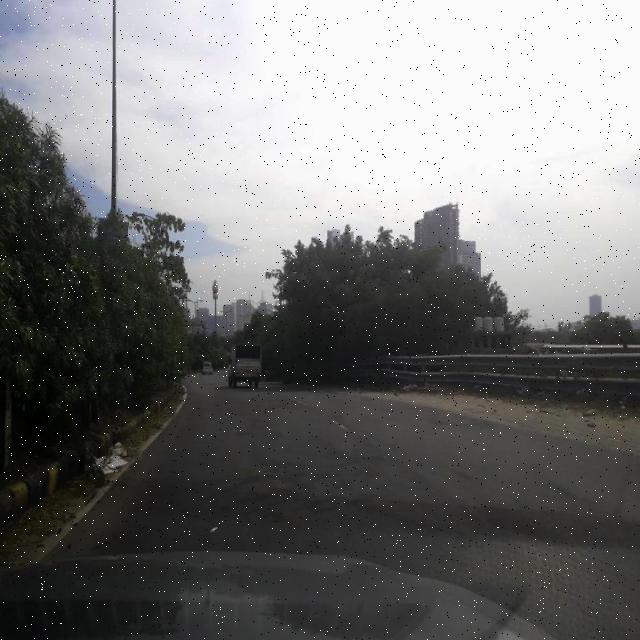D40: (303, 464, 379, 519), (218, 468, 298, 516)
